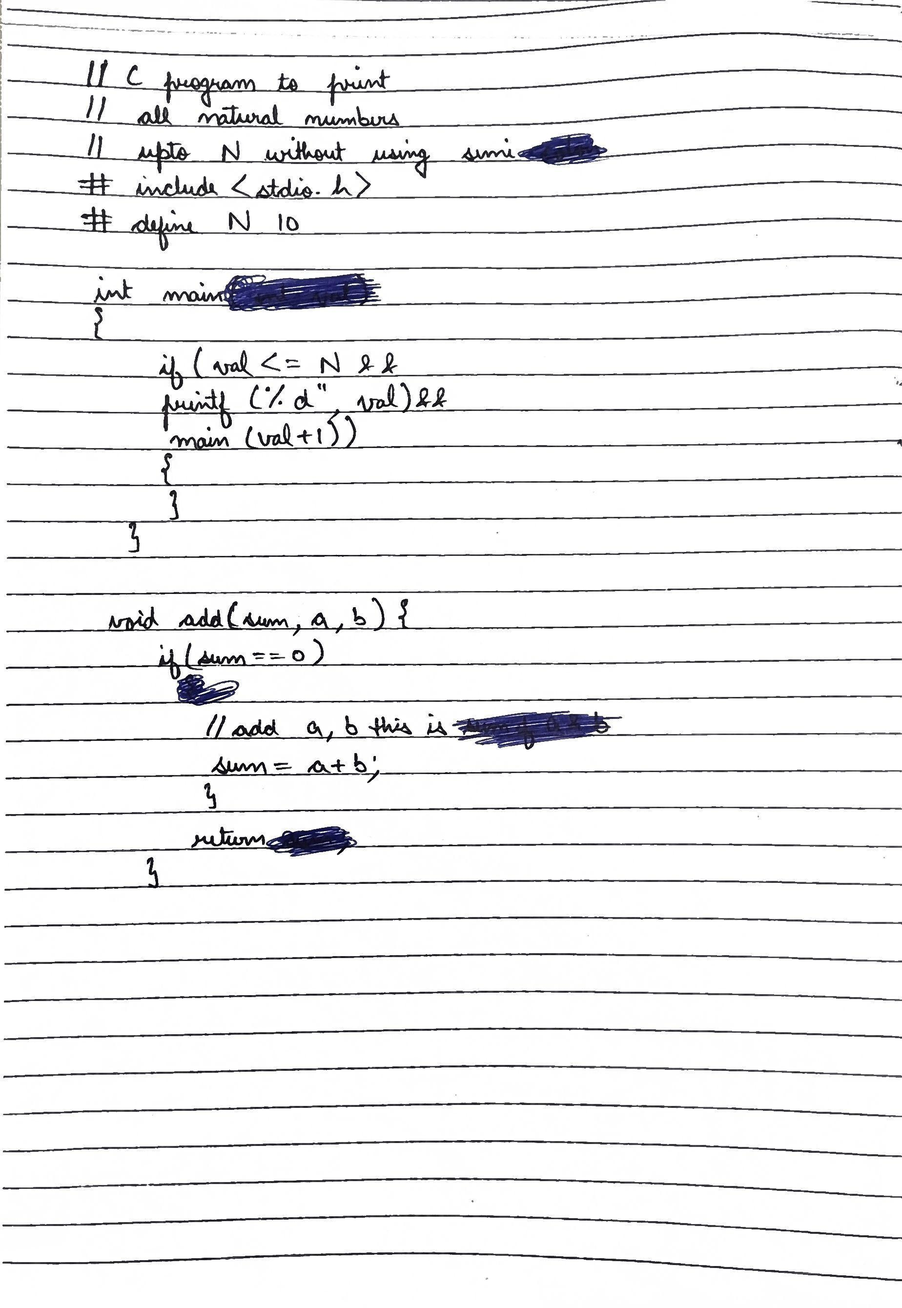cuttings: (450, 709, 624, 750), (222, 271, 386, 313), (516, 132, 612, 167), (267, 825, 358, 859), (176, 673, 241, 707)
